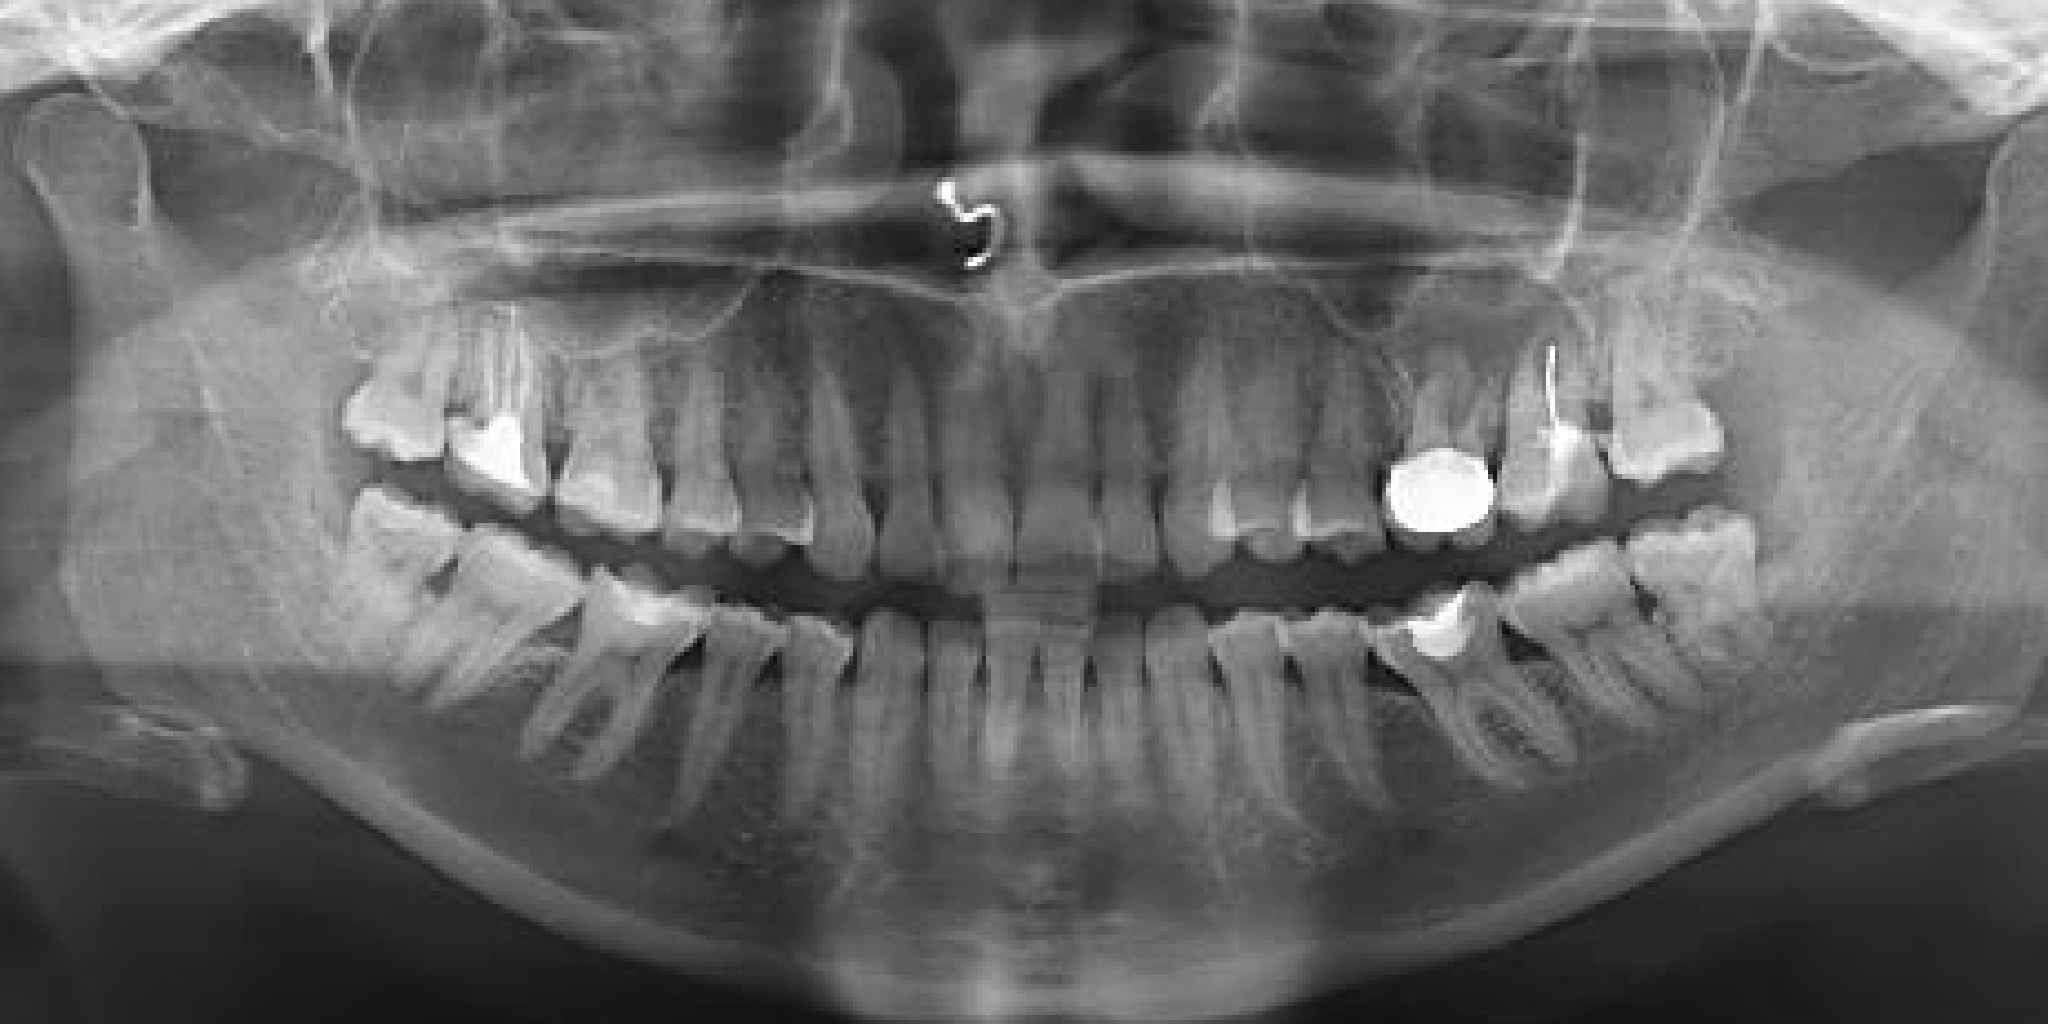Tooth: (1347, 541, 1605, 824), (374, 499, 601, 752), (1566, 278, 1736, 498), (307, 470, 472, 688), (1484, 310, 1635, 542), (541, 327, 692, 554), (1132, 589, 1258, 856), (323, 290, 488, 485), (1614, 491, 1782, 680), (814, 601, 938, 853), (432, 293, 566, 516), (1204, 333, 1326, 568), (776, 336, 886, 586), (1000, 353, 1109, 600), (704, 345, 820, 575), (926, 344, 1029, 601), (1283, 338, 1392, 568), (1155, 334, 1250, 586), (850, 355, 950, 590), (658, 344, 754, 560), (1075, 357, 1162, 586), (918, 613, 998, 820), (1081, 600, 1160, 799), (1032, 598, 1112, 793), (963, 609, 1036, 811)
